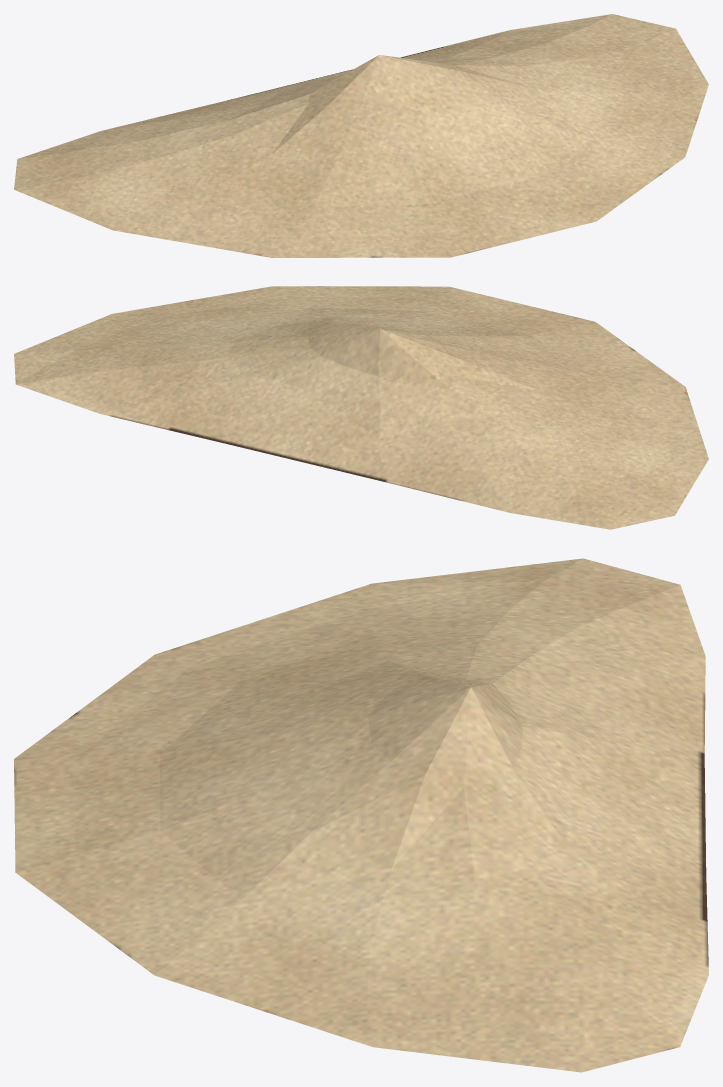
The model's file is SM_Dune_A.fbx.
The picture shows the model from 3 angles, top to bottom: view 1: azimuth 30°, elevation 25°; view 2: azimuth 150°, elevation 25°; view 3: azimuth 270°, elevation 25°; orthographic projection. The views are drawn at different scales.
Parts seen in each view (by area): view 1: SM_Dune_A; view 2: SM_Dune_A; view 3: SM_Dune_A.
Boxes of the visible parts, <box> form: SM_Dune_A: <box>14,14,708,257</box>; SM_Dune_A: <box>14,286,708,529</box>; SM_Dune_A: <box>14,558,708,1072</box>.
Bounding box in the file's own units: 12023 × 1390 × 6870.
1 material, 1 textured.
